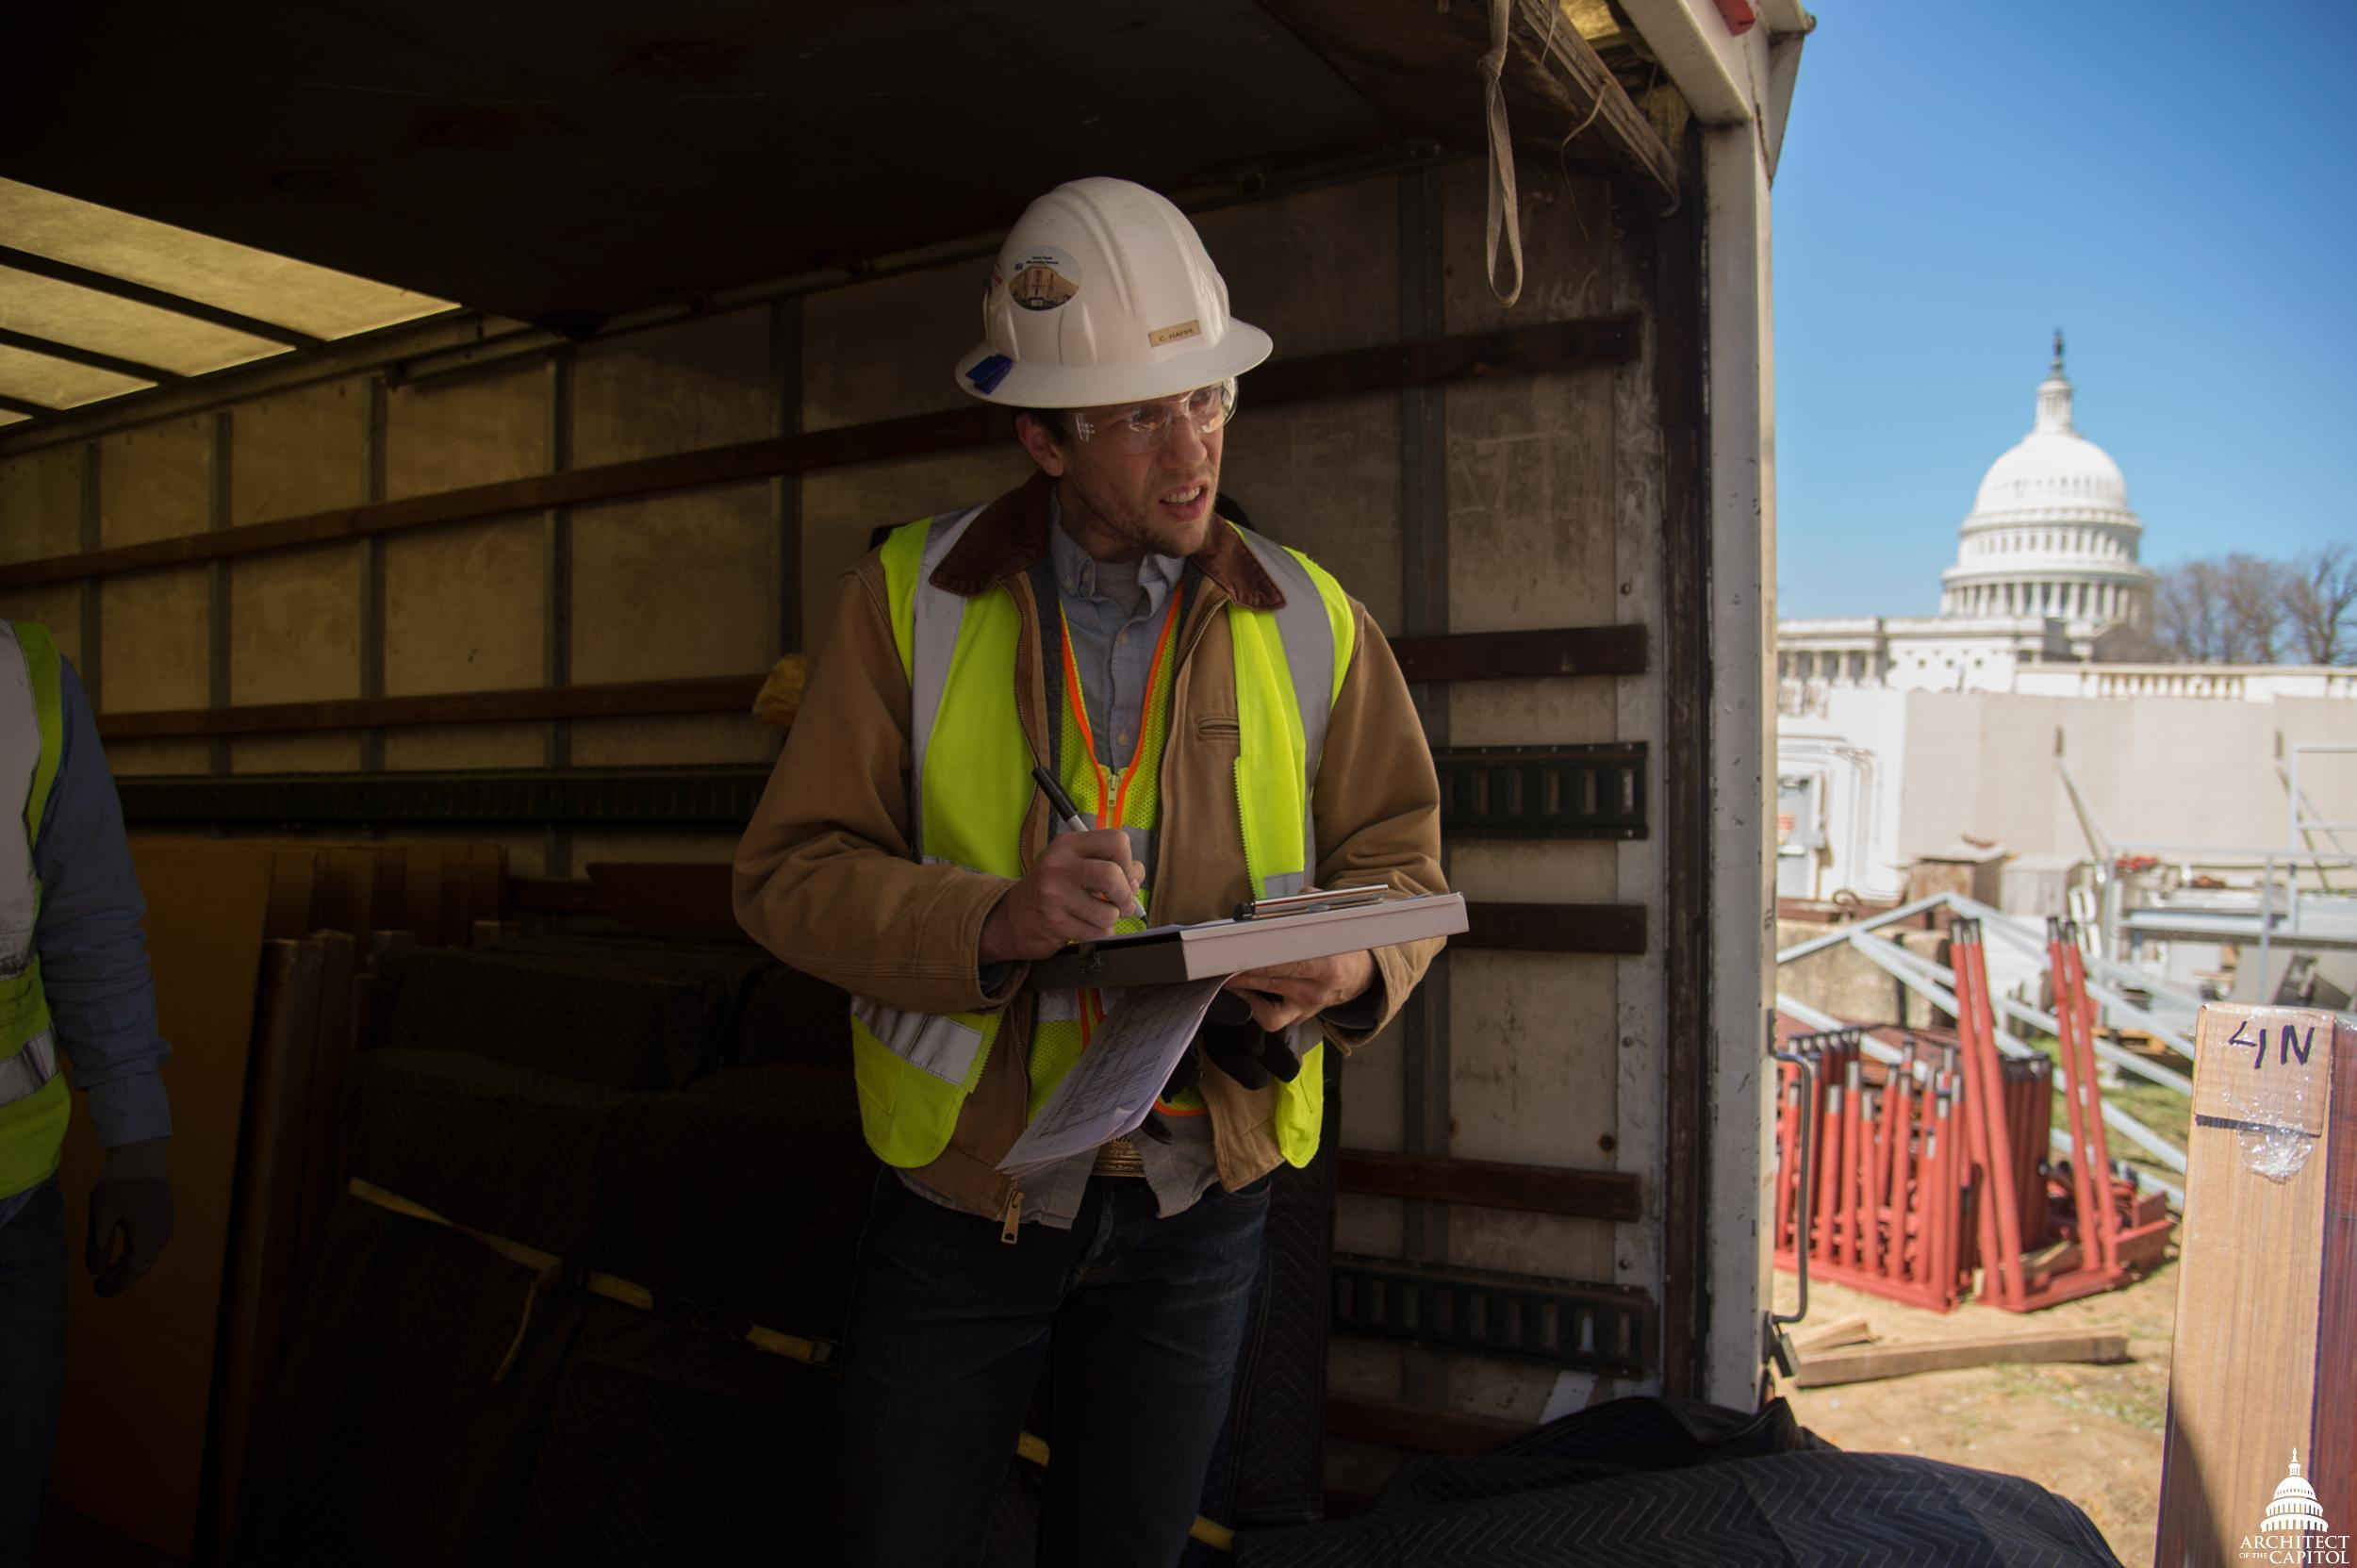vest: (815, 513, 1398, 1229)
